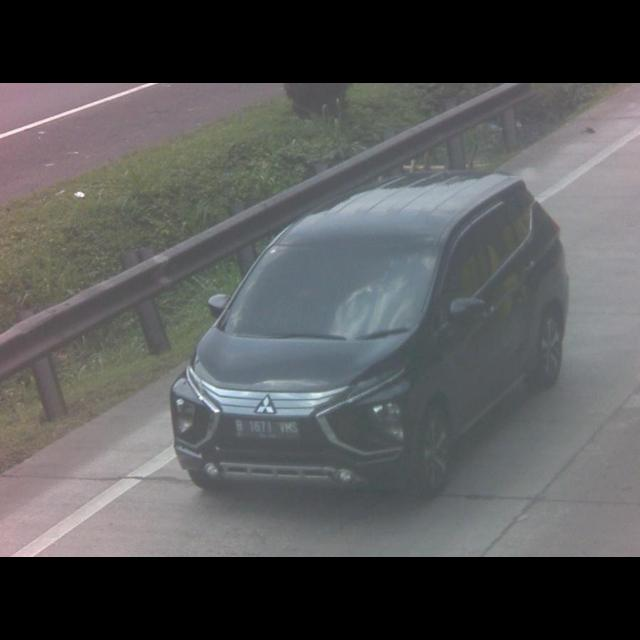plate: (234, 416, 304, 442)
